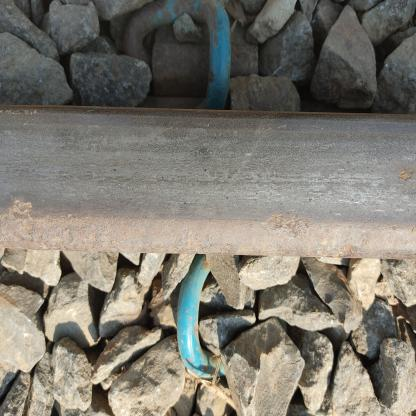Non Defective 1: (198, 272, 338, 416), (188, 0, 304, 146)
